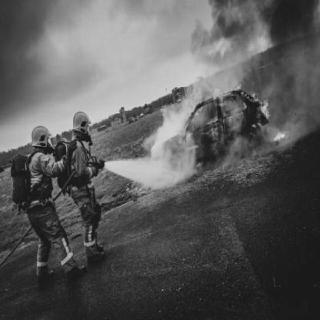Smoke: (196, 0, 318, 118)
